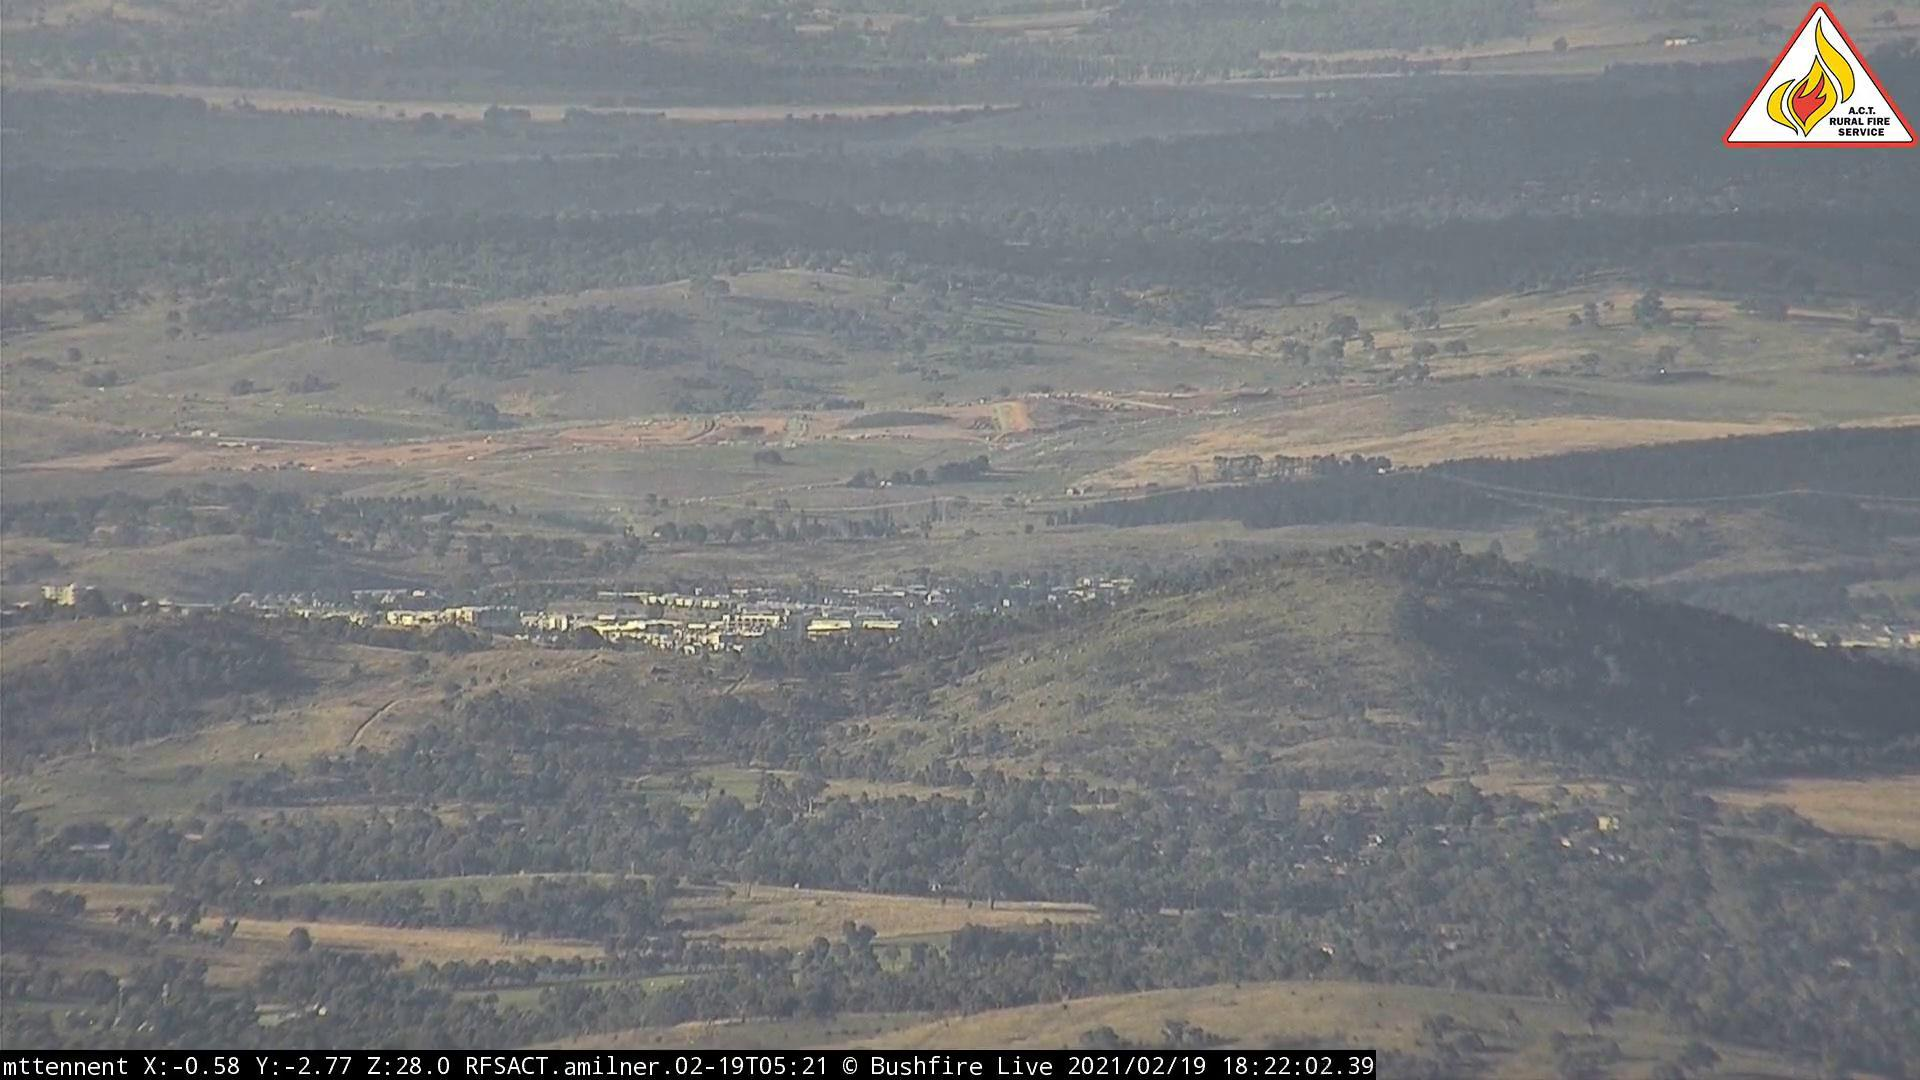Smoke: (626, 517, 671, 553)
